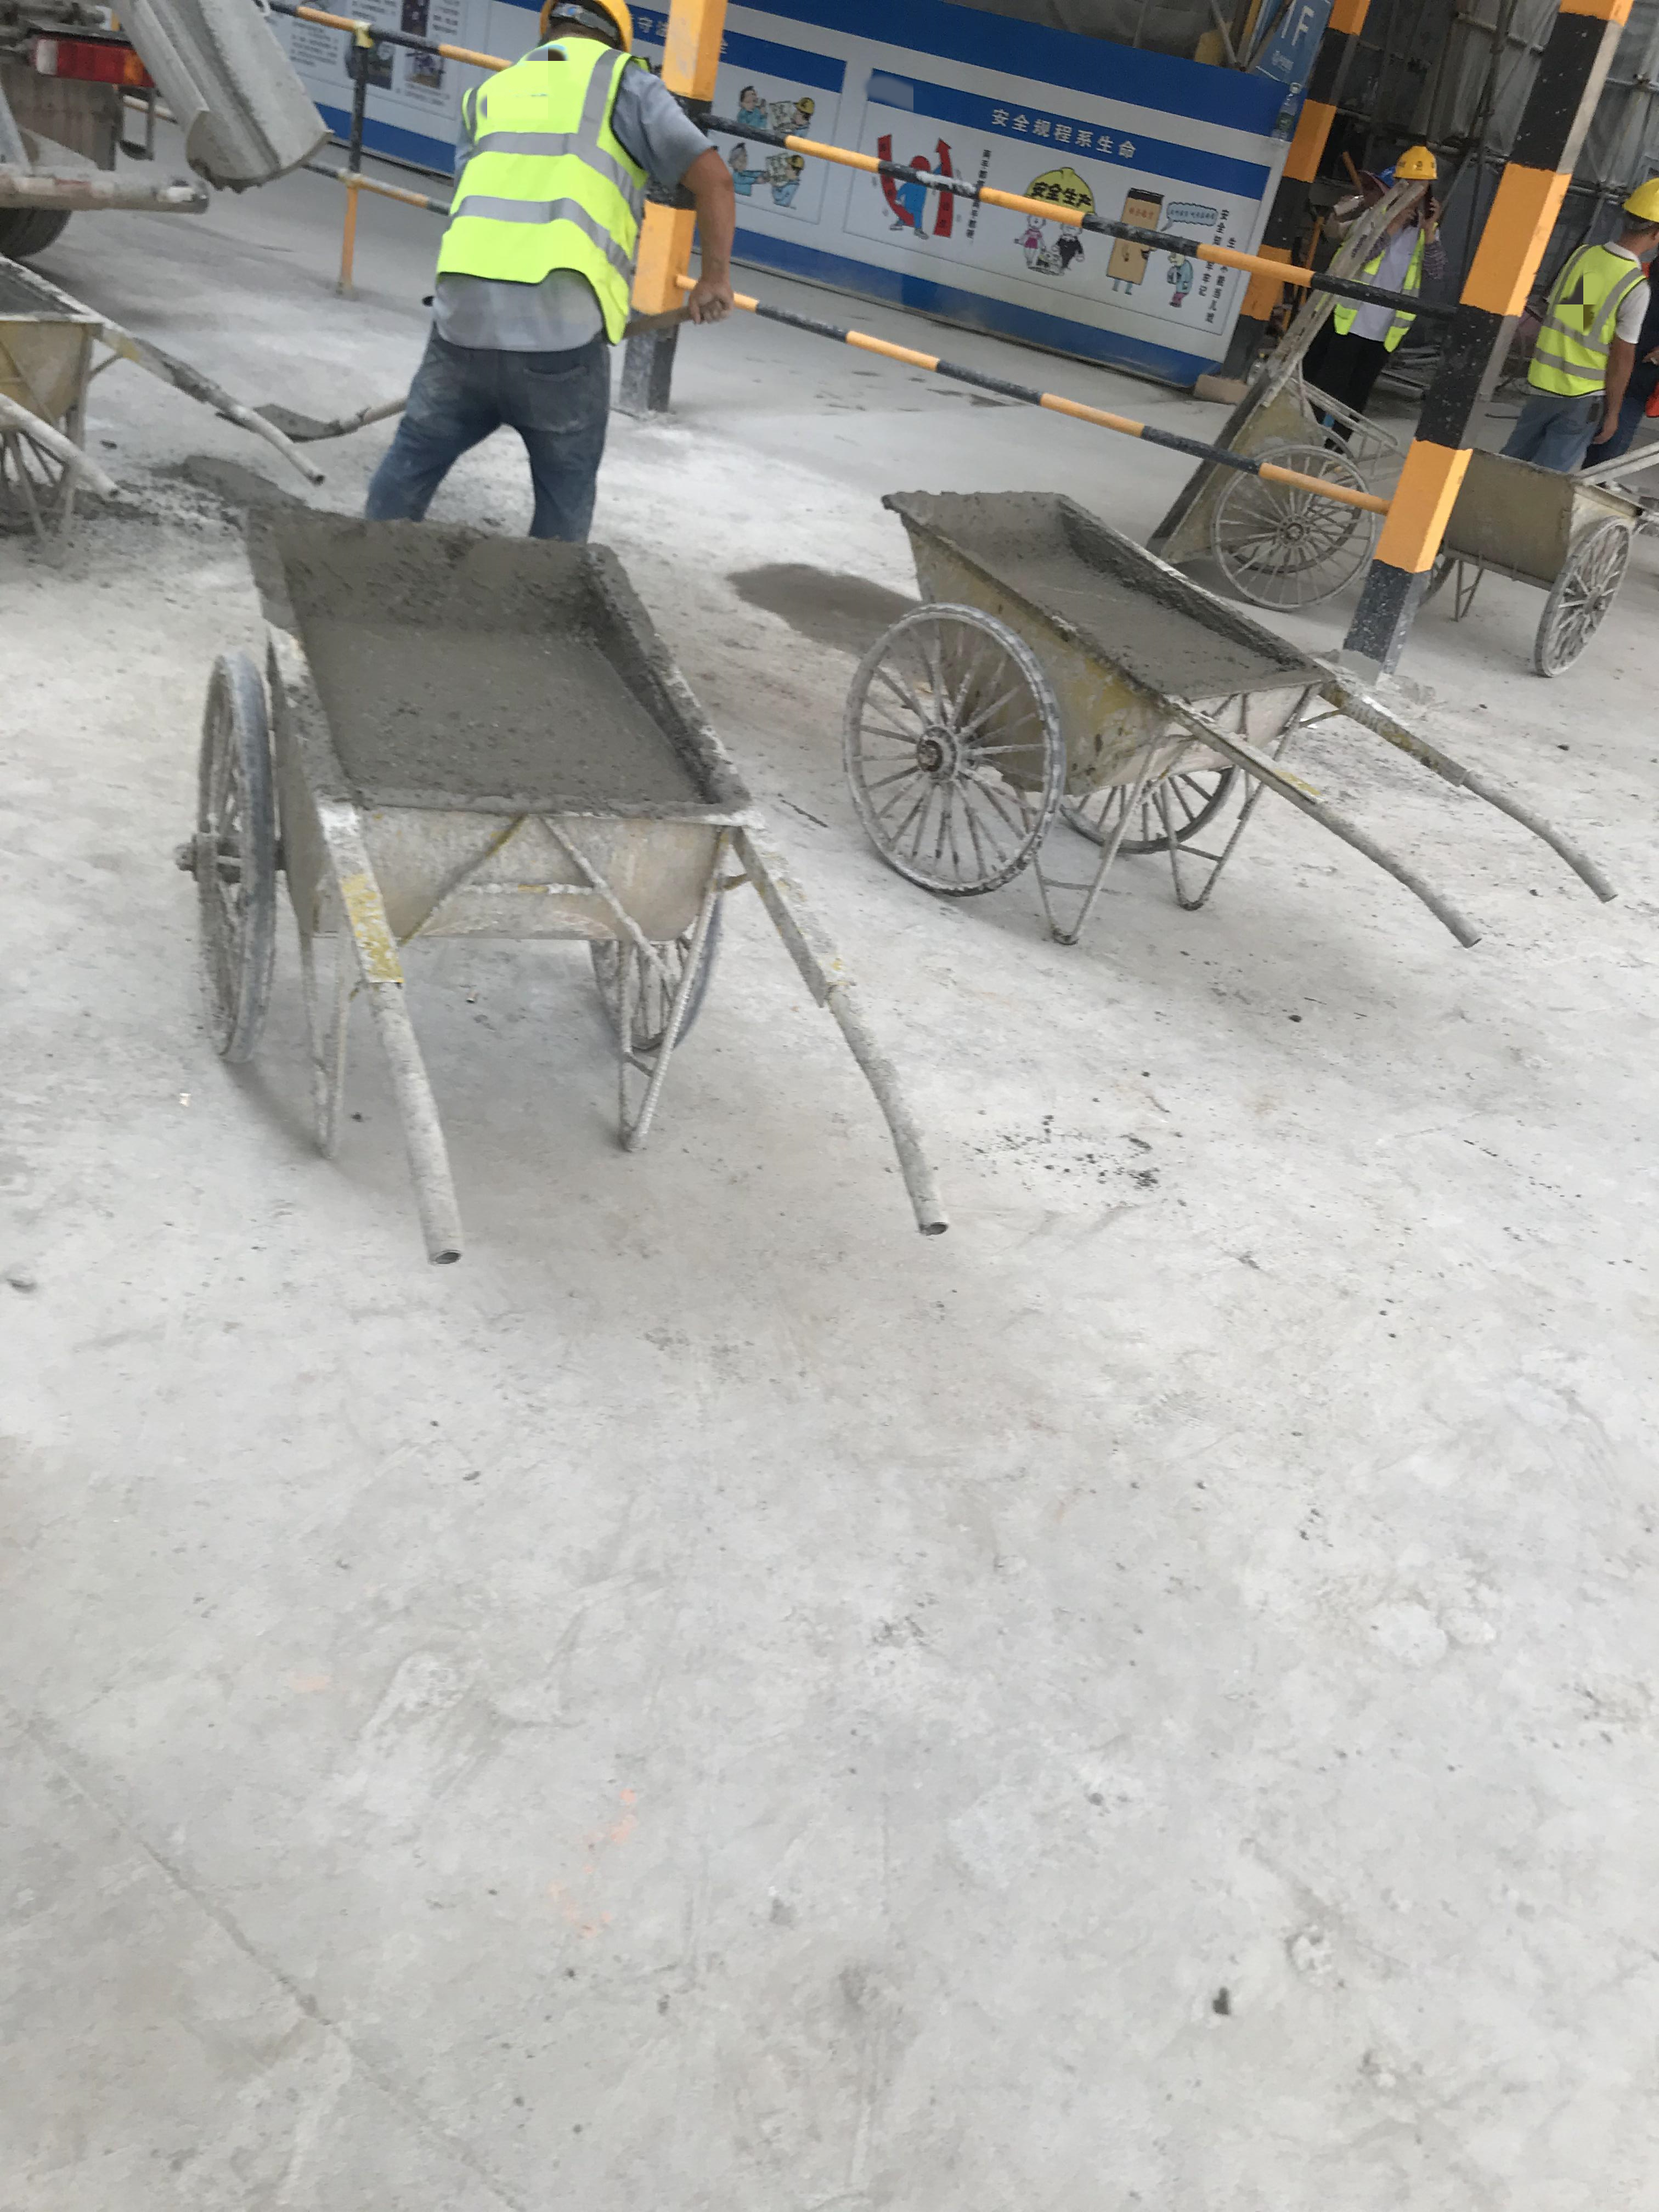helmet: (560, 1, 627, 43), (1392, 149, 1446, 185), (1618, 178, 1659, 224)
person: (373, 1, 690, 584), (1537, 154, 1657, 500), (1310, 140, 1447, 420)
vest: (447, 42, 645, 371), (1532, 262, 1649, 400), (1327, 223, 1432, 352)
